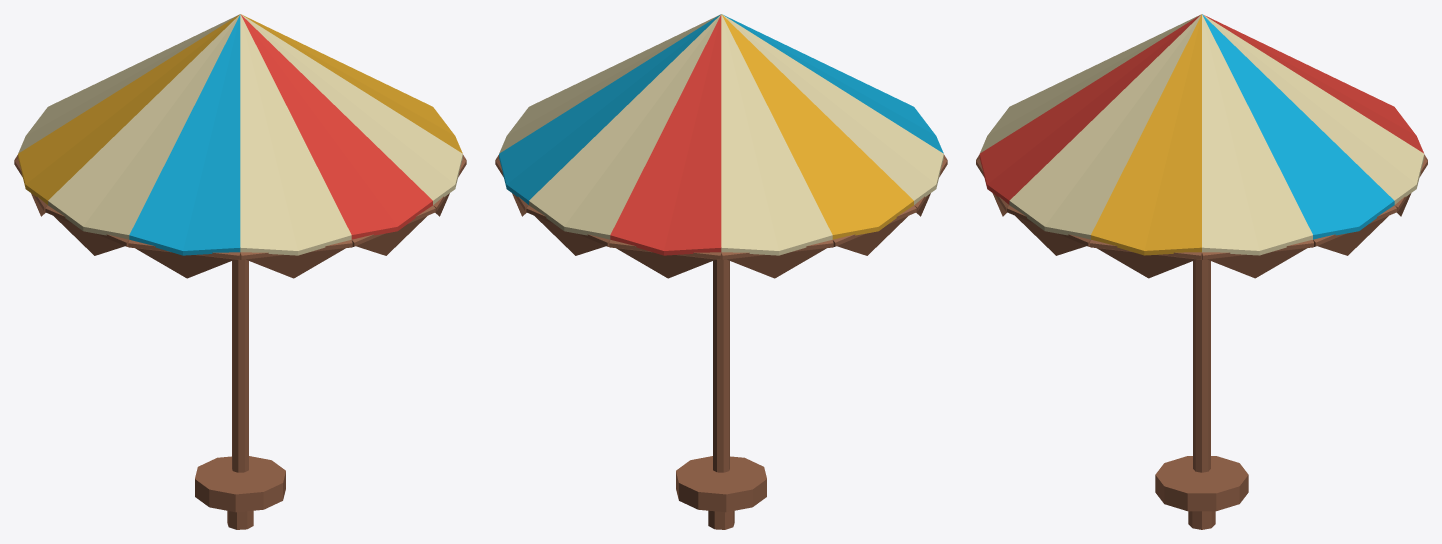
Rendered from BeachUmbrella.glb.
3 renders of one model, left to right at view 1: azimuth 30°, elevation 25°; view 2: azimuth 150°, elevation 25°; view 3: azimuth 270°, elevation 25°, orthographic.
Parts seen in each view (by area): view 1: BeachUmbrella_Canopy, BeachUmbrella_CanopyTrim, BeachUmbrella_Stake, BeachUmbrella_Pole; view 2: BeachUmbrella_Canopy, BeachUmbrella_CanopyTrim, BeachUmbrella_Stake, BeachUmbrella_Pole; view 3: BeachUmbrella_Canopy, BeachUmbrella_CanopyTrim, BeachUmbrella_Stake, BeachUmbrella_Pole.
Part boxes in pixels (x1,y1,x2,y2): BeachUmbrella_Canopy: (18, 14, 462, 255); BeachUmbrella_CanopyTrim: (14, 155, 466, 278); BeachUmbrella_Stake: (195, 456, 285, 529); BeachUmbrella_Pole: (232, 259, 248, 472); BeachUmbrella_Canopy: (499, 14, 943, 255); BeachUmbrella_CanopyTrim: (495, 155, 947, 278); BeachUmbrella_Stake: (676, 456, 766, 529); BeachUmbrella_Pole: (713, 259, 729, 472); BeachUmbrella_Canopy: (979, 14, 1424, 255); BeachUmbrella_CanopyTrim: (976, 154, 1427, 278); BeachUmbrella_Stake: (1155, 456, 1248, 529); BeachUmbrella_Pole: (1193, 259, 1210, 472).
Size of the model in its own units: 1.26 by 1.57 by 1.26.
